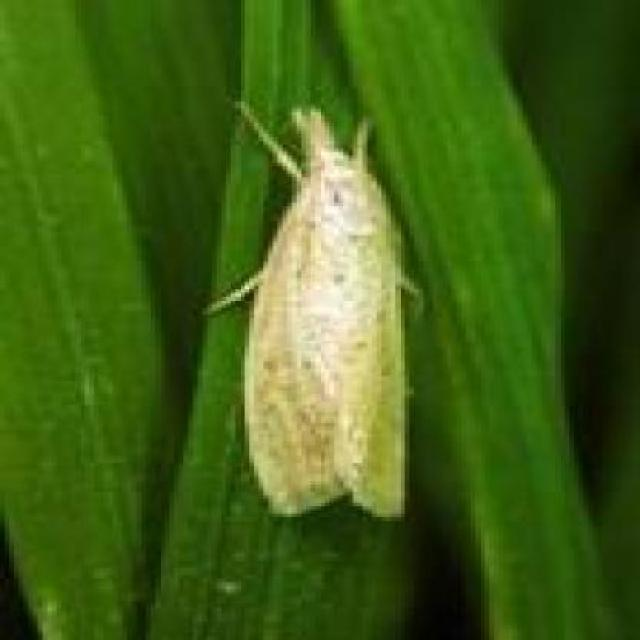stem-borer: (228, 96, 424, 524)
